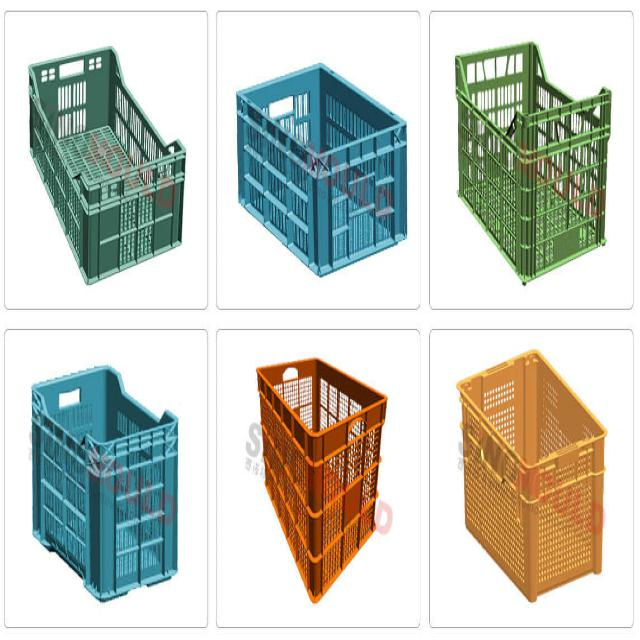basket: (0, 20, 219, 284), (239, 353, 390, 607), (457, 40, 612, 282), (458, 350, 606, 601), (236, 61, 407, 274), (32, 365, 177, 600)
